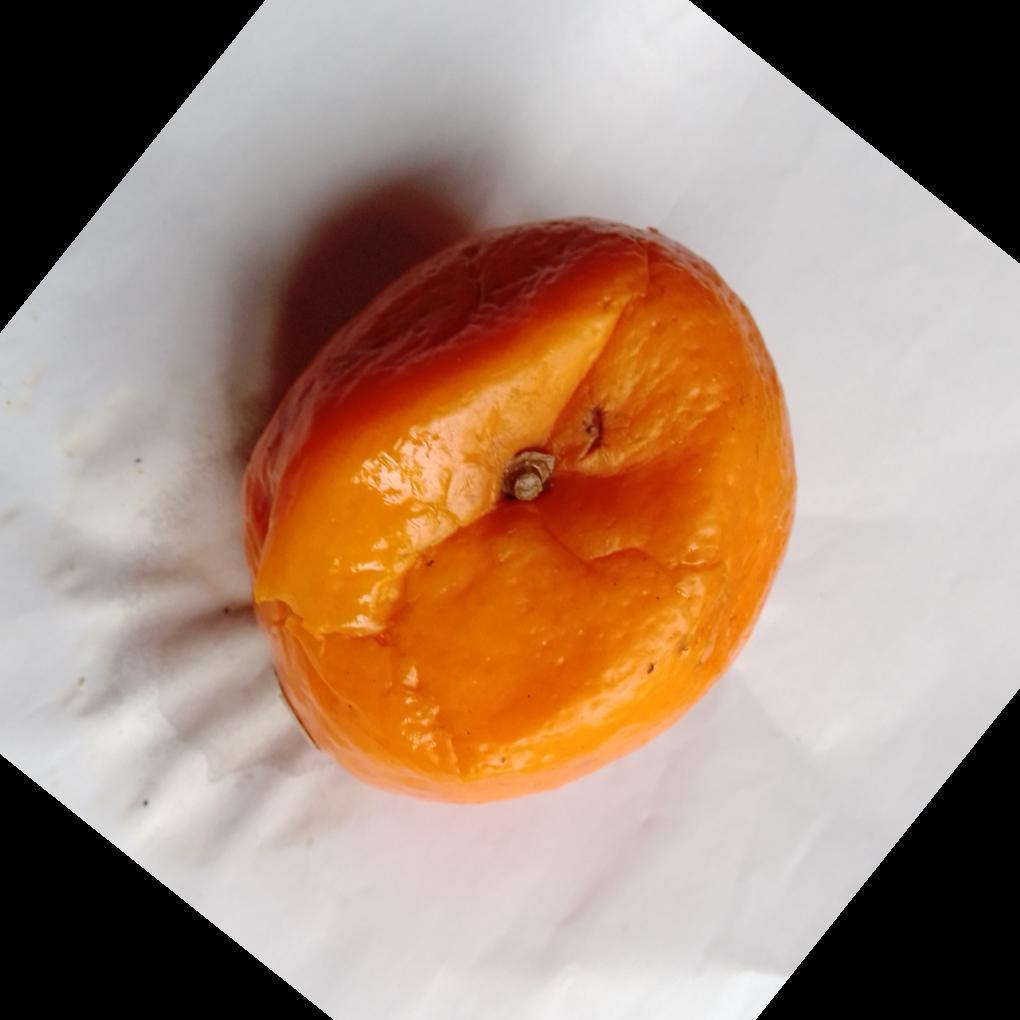FreshOrange: (238, 218, 799, 810)
